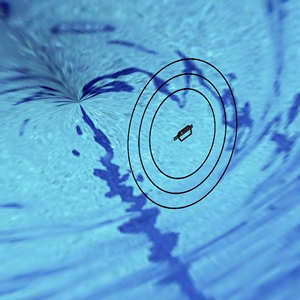circle: (117, 39, 253, 218)
submarine: (165, 115, 199, 153)
